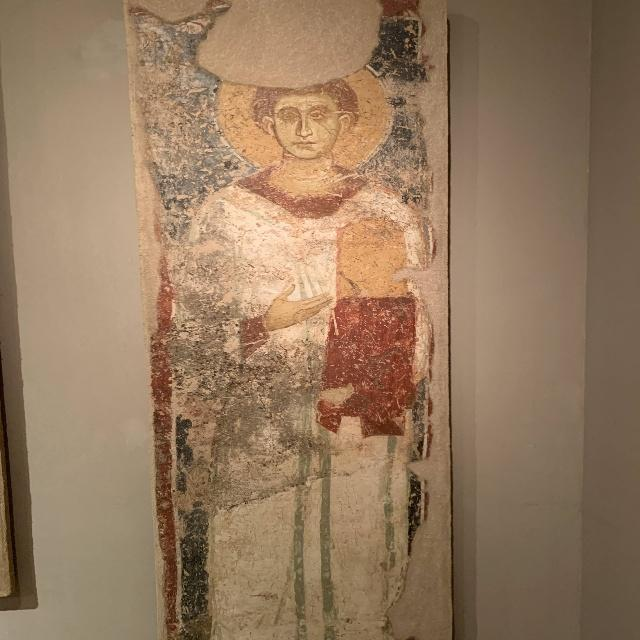aura: (214, 55, 399, 179)
saint: (175, 47, 436, 639)
